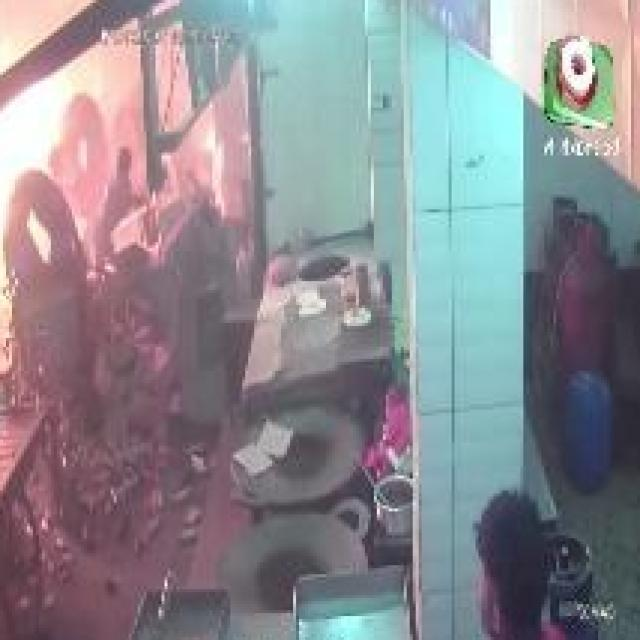smoke: (0, 30, 99, 275)
